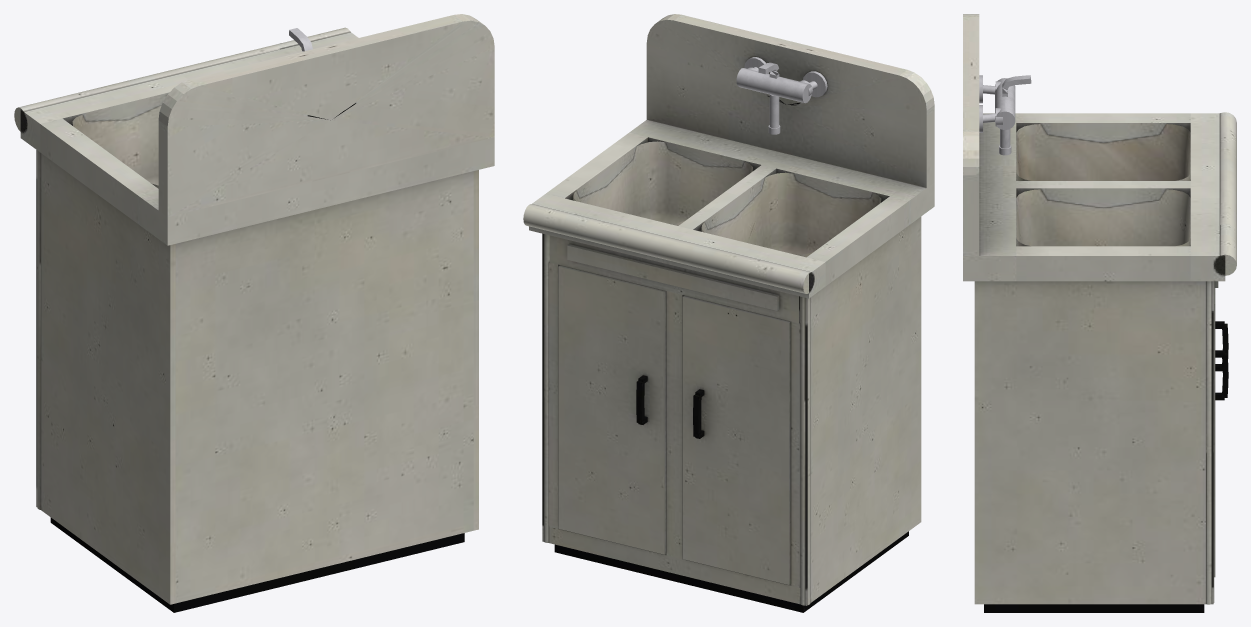
File: sink_backsplash_web.glb
The picture shows the model from 3 angles, left to right: view 1: azimuth 30°, elevation 25°; view 2: azimuth 150°, elevation 25°; view 3: azimuth 270°, elevation 25°; orthographic projection. The views are drawn at different scales.
Parts seen in each view (by area): view 1: SinkBacksplash_Body; view 2: SinkBacksplash_Body, Door_R_Mesh.001, Door_L_Mesh.001, Chrome_FaucetBody.001; view 3: SinkBacksplash_Body, Chrome_FaucetBody.001, Door_L_Mesh.001.
Part boxes in pixels (<box>): SinkBacksplash_Body: <box>14,14,494,612</box>; SinkBacksplash_Body: <box>523,14,934,612</box>; Door_R_Mesh.001: <box>682,295,791,584</box>; Door_L_Mesh.001: <box>558,265,666,554</box>; Chrome_FaucetBody.001: <box>736,57,827,103</box>; SinkBacksplash_Body: <box>963,14,1236,612</box>; Chrome_FaucetBody.001: <box>979,75,1031,132</box>; Door_L_Mesh.001: <box>1214,288,1228,577</box>.
Bounding box in the file's own units: 0.72 × 1.12 × 0.585.
Materials: 2 (2 with a texture image).
